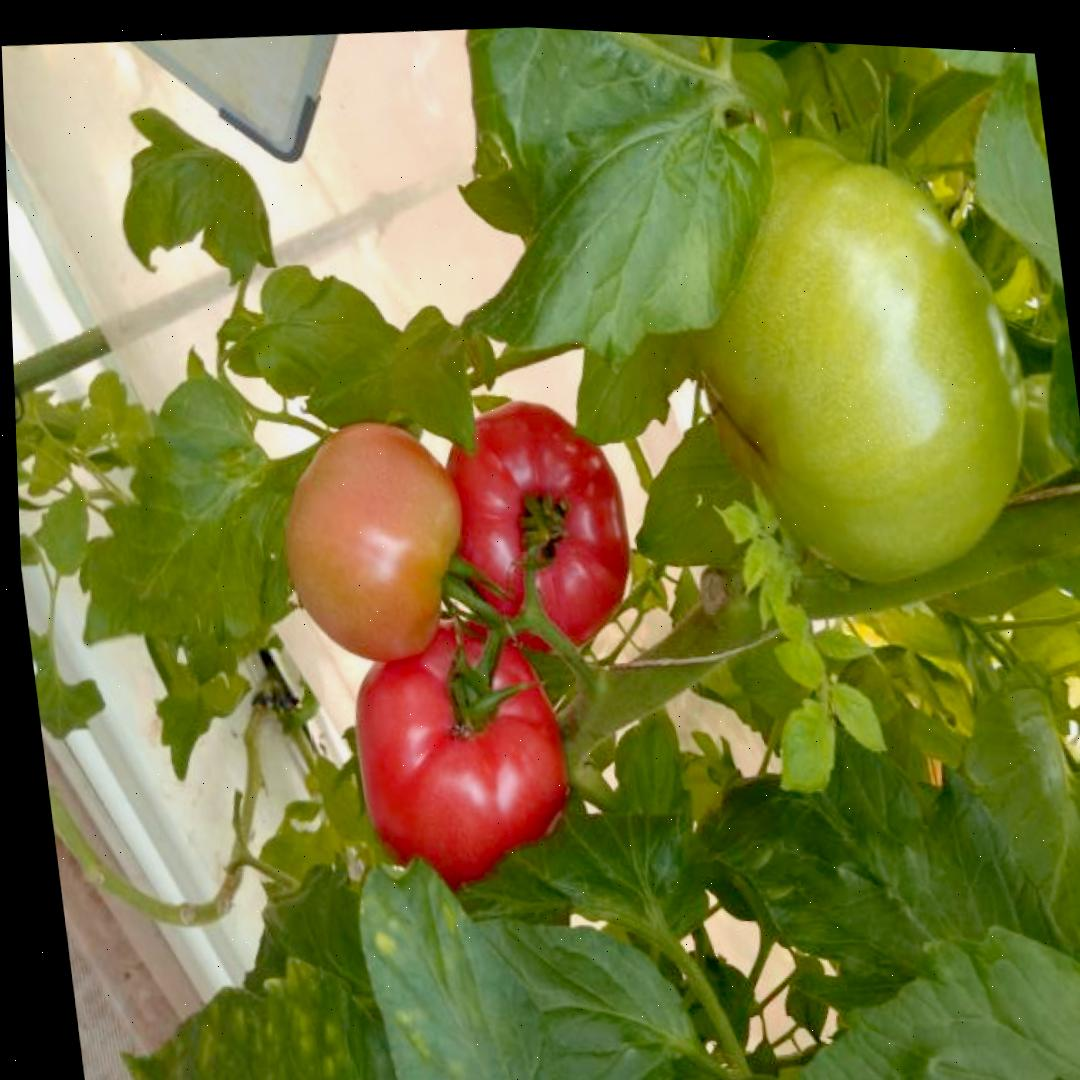matang: (338, 601, 581, 911), (420, 386, 646, 669)
mentah: (657, 100, 1049, 609)
setengah_matang: (267, 413, 482, 676)
